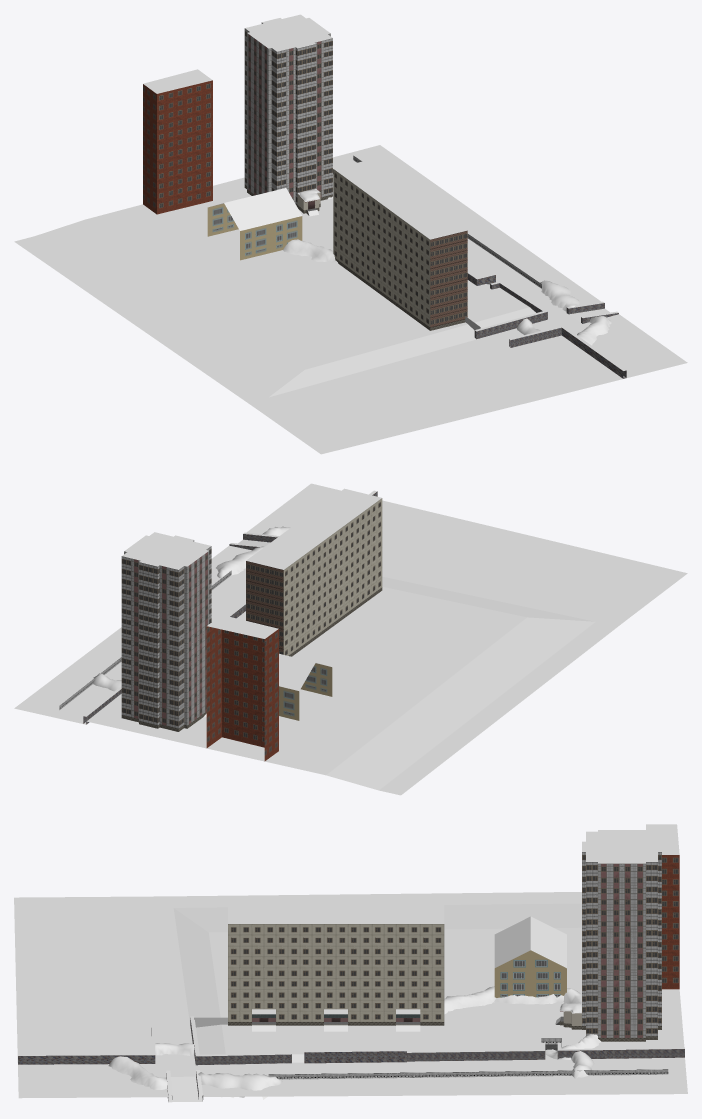
File: hood_nav_mesh.glb
3 views of the same model, one above another, from view 1: azimuth 30°, elevation 25°; view 2: azimuth 150°, elevation 25°; view 3: azimuth 270°, elevation 25° (orthographic). The views are drawn at different scales.
Parts seen in each view (by area): view 1: ground; view 2: ground; view 3: ground.
Part boxes in pixels (x1,y1,x2,y2): ground: [14, 14, 687, 454]; ground: [14, 483, 687, 795]; ground: [14, 824, 687, 1102].
Size of the model in its own units: 122 by 54.06 by 168.
Materials: 26 (18 with a texture image).
